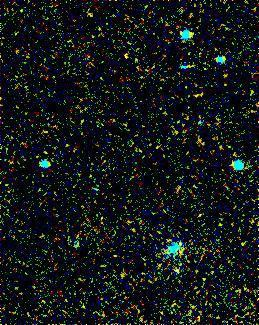star: (186, 80, 216, 110)
